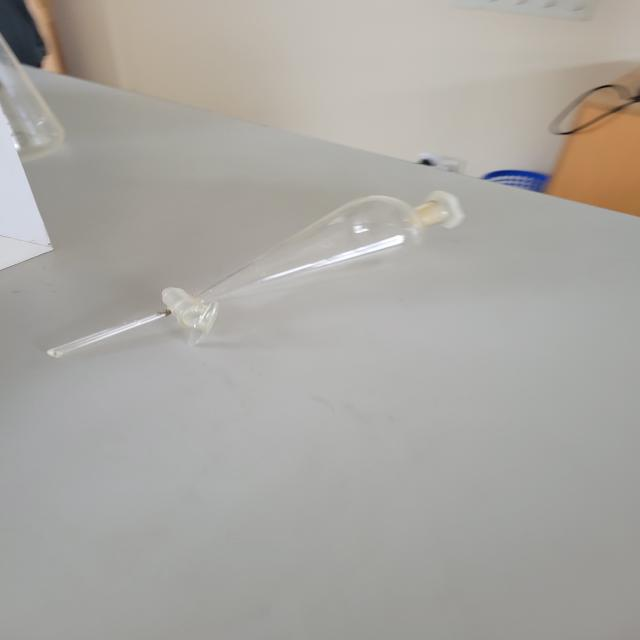Separating_Funnel: (32, 178, 485, 389)
